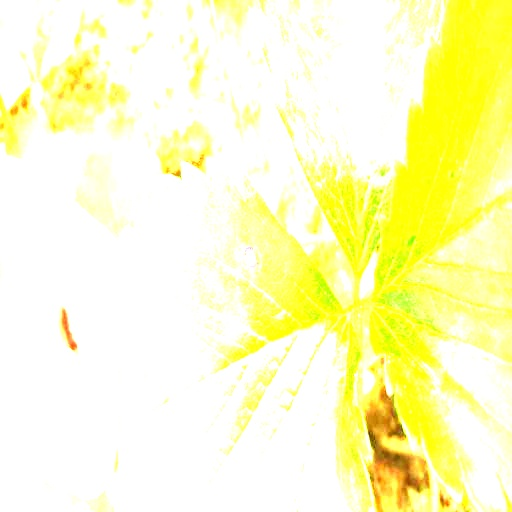Leaf Spot: (101, 155, 374, 511), (368, 0, 511, 511)
